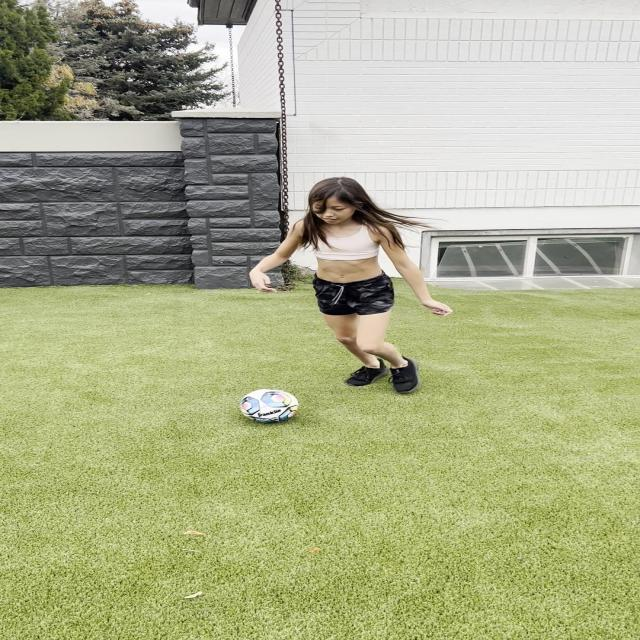Soccer Ball: (240, 389, 300, 424)
